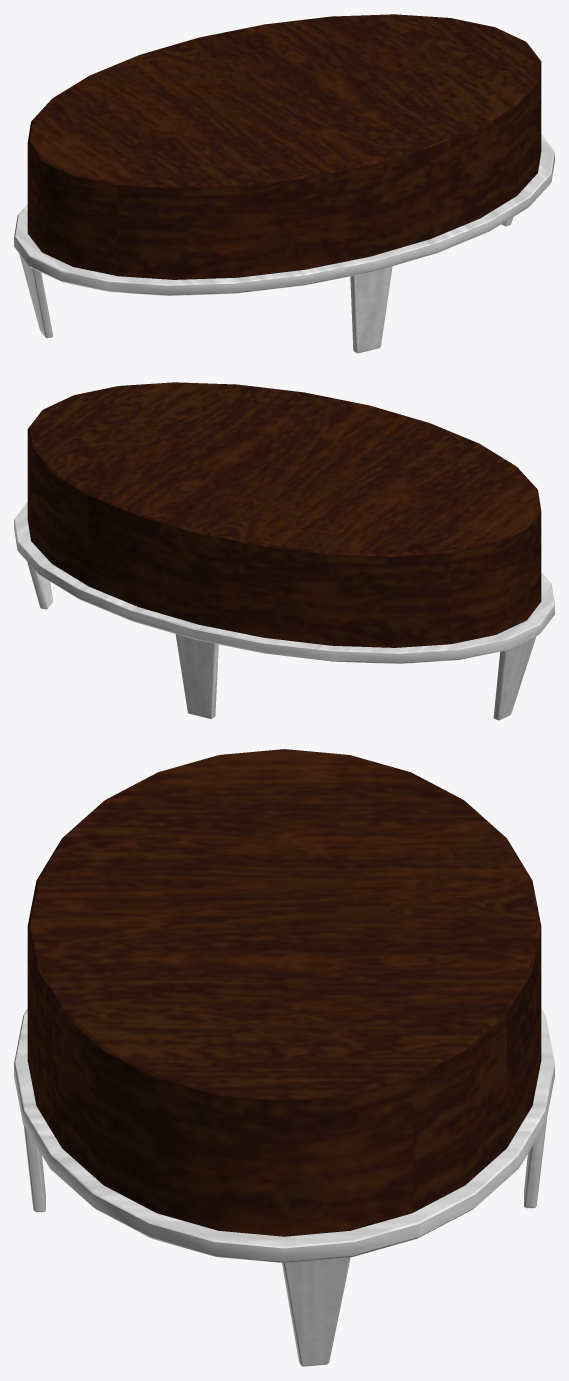
File: coffee_table.glb
3 views of the same model, one above another, from view 1: azimuth 30°, elevation 25°; view 2: azimuth 150°, elevation 25°; view 3: azimuth 270°, elevation 25° (orthographic). The views are drawn at different scales.
Parts seen in each view (by area): view 1: coffee_table_215; view 2: coffee_table_215; view 3: coffee_table_215.
Boxes of the visible parts, x1,y1,x2,y2 form: coffee_table_215: (14, 14, 554, 353); coffee_table_215: (14, 382, 554, 720); coffee_table_215: (14, 749, 554, 1366).
Size of the model in its own units: 1.43 by 0.5047 by 0.8807.
2 materials, 2 textured.
